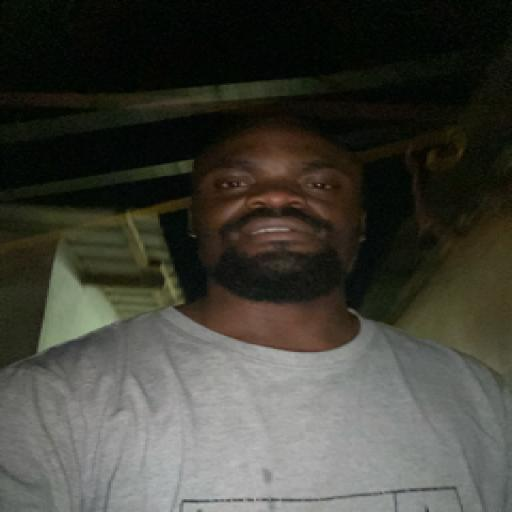JEANLUC: (178, 120, 370, 322)
